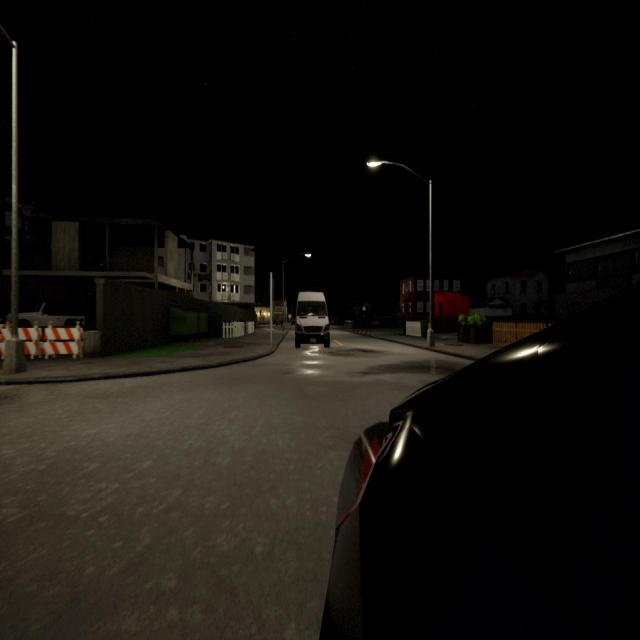Traffic_Signs: (288, 314, 292, 319)
Vehicle: (320, 284, 640, 638), (294, 291, 330, 348)
